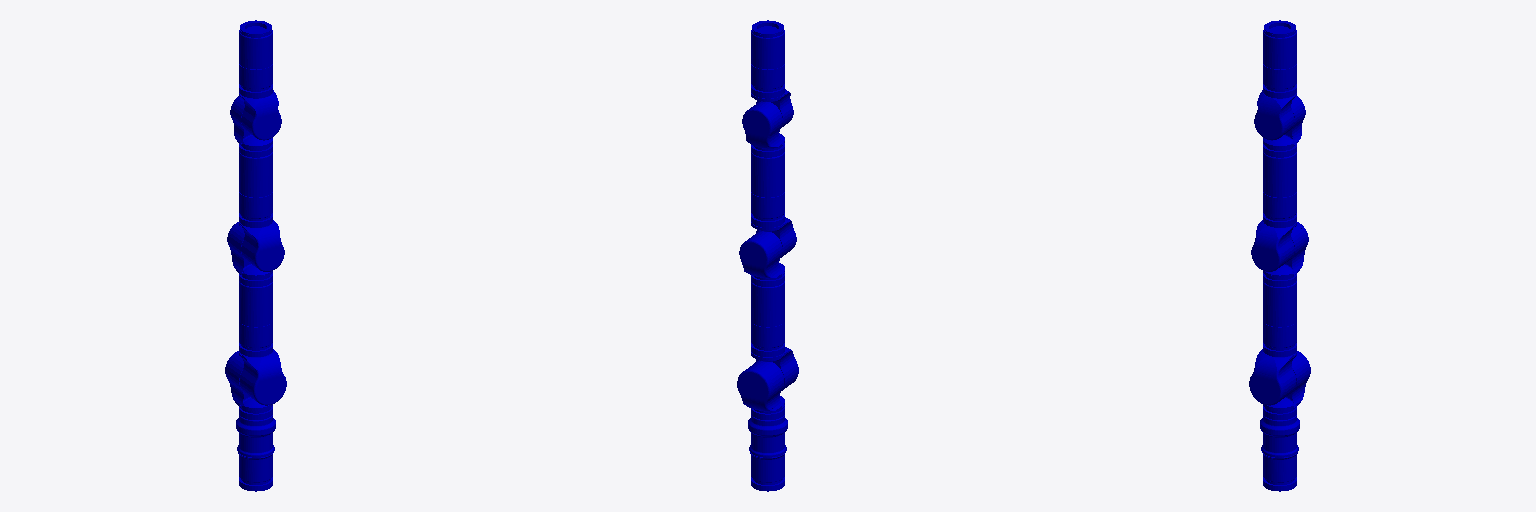
URDF robot description (tracarm):
<?xml version="1.0"?>
<robot name="tracarm">

  <material name="blue">
    <color rgba="0 0 .8 1"/>
  </material>

  <link name="world"/>
  
  <link name="deck_link"/>

  <joint name="base_joint" type="fixed">
    <origin rpy="0 0 0" xyz="0 0 0"/>
    <parent link="world"/>
    <child link="deck_link"/>
  </joint>
  
  <joint name="arm_uma_joint" type="fixed">
    <origin rpy="0 0 0" xyz="0.155 0.21 0"/>
    <parent link="deck_link"/>
    <child link="arm_uma_link"/>
  </joint>

  <link name="arm_uma_link">
    <visual>
      <origin rpy="0 0 0" xyz="0 0 0"/>
      <geometry>
        <mesh filename="package://tracarm_description/meshes/uma.stl"/>
      </geometry>
      <material name="blue"/>
    </visual>
    <collision>
      <origin rpy="0 0 0" xyz="0 0 0"/>
      <geometry>
        <mesh filename="package://tracarm_description/meshes/uma.stl"/>
      </geometry>
    </collision>
  </link>

  <joint name="arm_uma_base_joint" type="fixed">
    <origin rpy="0 0 0" xyz="0 0 0.01"/>
    <parent link="arm_uma_link"/>
    <child link="arm_base_roll_stationary_link"/>
  </joint>


  <link name="arm_base_roll_stationary_link">
    <visual>
      <origin rpy="0 0 0" xyz="0 0 0.0"/>
      <geometry>
        <mesh filename="package://tracarm_description/meshes/base_roll_stationary.stl"/>
      </geometry>
      <material name="blue"/>
    </visual>
    <collision>
      <origin rpy="0 0 0" xyz="0 0 0"/>
      <geometry>
        <mesh filename="package://tracarm_description/meshes/base_roll_stationary.stl"/>
      </geometry>
    </collision>
  </link>


  <joint name="joint0" type="revolute">
    <limit effort="244.5" lower="-2.181659722222222" upper=".7524547222222218" velocity="0.24434588888888886"/>
    <parent link="arm_base_roll_stationary_link"/>
    <child link="arm_base_roll_revolving_link"/>
    <origin rpy="0 0 0" xyz="0 0 0.1011"/>
    <axis xyz="0 0 1"/>
  </joint>
 
  <link name="arm_base_roll_revolving_link">
    <visual>
      <origin xyz="0 0 0"/>
      <geometry>
        <mesh filename="package://tracarm_description/meshes/base_roll_revolving.stl"/>
      </geometry>
      <material name="blue"/>
    </visual>
    <collision>
      <origin xyz="0 0 0"/>
      <geometry>
        <mesh filename="package://tracarm_description/meshes/base_roll_revolving.stl"/>
      </geometry>
    </collision>
  </link>

  <joint name="arm_base_to_shoulder_joint" type="fixed">
    <origin rpy="0 0 0" xyz="0 0 0.1284"/>
    <parent link="arm_base_roll_revolving_link"/>
    <child link="arm_shoulder_pitch_stationary_link"/>
  </joint>
  
  <link name="arm_shoulder_pitch_stationary_link">
    <visual>
      <origin xyz="0 0 0"/>
      <geometry>
        <mesh filename="package://tracarm_description/meshes/shoulder_pitch_stationary.stl"/>
      </geometry>
      <material name="blue"/>
    </visual>
    <collision>
      <origin xyz="0 0 0"/>
      <geometry>
        <mesh filename="package://tracarm_description/meshes/shoulder_pitch_stationary.stl"/>
      </geometry>
    </collision>
  </link>
  
  <joint name="joint1" type="revolute">
    <limit effort="244.5" lower="-1.9809470277777779" upper="1.9809470277777779" velocity="0.26179916666666664"/>
    <parent link="arm_shoulder_pitch_stationary_link"/>
    <child link="arm_shoulder_pitch_revolving_link"/>
    <origin rpy="0 0 0" xyz="0 0 0.104"/>
    <axis xyz="0 1 0"/>
  </joint>

  <link name="arm_shoulder_pitch_revolving_link">
    <visual>
      <origin xyz="0 0 0"/>
      <geometry>
        <mesh filename="package://tracarm_description/meshes/shoulder_pitch_revolving.stl"/>
      </geometry>
      <material name="blue"/>
    </visual>
    <collision>
      <origin xyz="0 0 0"/>
      <geometry>
        <mesh filename="package://tracarm_description/meshes/shoulder_pitch_revolving.stl"/>
      </geometry>
    </collision>
  </link>

  <joint name="arm_shoulder_to_shoulder_joint" type="fixed">
    <origin rpy="0 0 0" xyz="0 0 0.0975"/>
    <parent link="arm_shoulder_pitch_revolving_link"/>
    <child link="arm_shoulder_roll_stationary_link"/>
  </joint>

  <link name="arm_shoulder_roll_stationary_link">
    <visual>
      <origin xyz="0 0 0"/>
      <geometry>
        <mesh filename="package://tracarm_description/meshes/shoulder_roll_stationary.stl"/>
      </geometry>
      <material name="blue"/>
    </visual>
    <collision>
      <origin xyz="0 0 0"/>
      <geometry>
          <mesh filename="package://tracarm_description/meshes/shoulder_roll_stationary.stl"/>
      </geometry>
    </collision>
  </link>
  
  <joint name="joint2" type="revolute">
    <limit effort="123.6" lower="-2.1554798055555553" upper="3.7262748055555557" velocity="0.2792524444444444"/>
    <parent link="arm_shoulder_roll_stationary_link"/>
    <child link="arm_shoulder_roll_revolving_link"/>
    <origin rpy="0 0 0" xyz="0 0 0.087063"/>
    <axis xyz="0 0 1"/>
  </joint>
  
  <link name="arm_shoulder_roll_revolving_link">
    <visual>
      <origin xyz="0 0 0"/>
      <geometry>
        <mesh filename="package://tracarm_description/meshes/shoulder_roll_revolving.stl"/>
      </geometry>
      <material name="blue"/>
    </visual>
    <collision>
      <origin xyz="0 0 0"/>
      <geometry>
        <mesh filename="package://tracarm_description/meshes/shoulder_roll_revolving.stl"/>
      </geometry>
    </collision>
  </link>
  
  <joint name="arm_shoulder_to_elbow_joint" type="fixed">
    <origin rpy="0 0 0" xyz="0 0 0.138212"/>
    <parent link="arm_shoulder_roll_revolving_link"/>
    <child link="arm_elbow_pitch_stationary_link"/>
  </joint>
  
  <link name="arm_elbow_pitch_stationary_link">
    <visual>
      <origin rpy="0 0 0" xyz="0 0 0"/>
      <geometry>
        <mesh filename="package://tracarm_description/meshes/elbow_pitch_stationary.stl"/>
      </geometry>
      <material name="blue"/>
    </visual>
    <collision>
      <origin rpy="0 0 0" xyz="0 0 0"/>
      <geometry>
        <mesh filename="package://tracarm_description/meshes/elbow_pitch_stationary.stl"/>
      </geometry>
    </collision>
  </link>
  
  <joint name="joint3" type="revolute">
    <limit effort="123.6" lower="-1.9809470277777779" upper="1.9809470277777779" velocity="0.2792524444444444"/>
    <parent link="arm_elbow_pitch_stationary_link"/>
    <child link="arm_elbow_pitch_revolving_link"/>
    <origin rpy="0 0 0" xyz="0 0 0.098"/>
    <axis xyz="0 1 0"/>
  </joint>
  
  <link name="arm_elbow_pitch_revolving_link">
    <visual>
      <origin rpy="0 0 0" xyz="0 0 0"/>
      <geometry>
        <mesh filename="package://tracarm_description/meshes/elbow_pitch_revolving.stl"/>
      </geometry>
      <material name="blue"/>
    </visual>
    <collision>
      <origin rpy="0 0 0" xyz="0 0 0"/>
      <geometry>
        <mesh filename="package://tracarm_description/meshes/elbow_pitch_revolving.stl"/>
      </geometry>
    </collision>
  </link>
  
  <joint name="arm_elbow_to_elbow_joint" type="fixed">
    <origin rpy="0 0 0" xyz="0 0 0.0915"/>
    <parent link="arm_elbow_pitch_revolving_link"/>
    <child link="arm_elbow_roll_stationary_link"/>
  </joint>

  <link name="arm_elbow_roll_stationary_link">
    <visual>
      <origin rpy="0 0 0" xyz="0 0 0"/>
      <geometry>
        <mesh filename="package://tracarm_description/meshes/elbow_roll_stationary.stl"/>
      </geometry>
      <material name="blue"/>
    </visual>
    <collision>
      <origin rpy="0 0 0" xyz="0 0 0"/>
      <geometry>
        <mesh filename="package://tracarm_description/meshes/elbow_roll_stationary.stl"/>
      </geometry>
    </collision>
  </link>
    
  <joint name="joint4" type="revolute">
    <limit effort="123.6" lower="-2.286379388888889" upper=".5953752222222226" velocity="0.2967057222222222"/>
    <parent link="arm_elbow_roll_stationary_link"/>
    <child link="arm_elbow_roll_revolving_link"/>
    <origin rpy="0 0 0" xyz="0 0 0.087063"/>
    <axis xyz="0 0 1"/>
  </joint>

  <link name="arm_elbow_roll_revolving_link">
    <visual>
      <origin rpy="0 0 0" xyz="0 0 0"/>
      <geometry>
        <mesh filename="package://tracarm_description/meshes/elbow_roll_revolving.stl"/>
      </geometry>
      <material name="blue"/>
    </visual>
    <collision>
      <origin rpy="0 0 0" xyz="0 0 0"/>
      <geometry>
        <mesh filename="package://tracarm_description/meshes/elbow_roll_revolving.stl"/>
      </geometry>
    </collision>
  </link>
  
  <joint name="arm_elbow_to_wrist_joint" type="fixed">
    <origin rpy="0 0 0" xyz="0 0 0.138212"/>
    <parent link="arm_elbow_roll_revolving_link"/>
    <child link="arm_wrist_pitch_stationary_link"/>
  </joint>

  <link name="arm_wrist_pitch_stationary_link">
    <visual>
      <origin xyz="0 0 0"/>
      <geometry>
        <mesh filename="package://tracarm_description/meshes/wrist_pitch_stationary.stl"/>
      </geometry>
      <material name="blue"/>
    </visual>
    <collision>
      <origin xyz="0 0 0"/>
      <geometry>
        <mesh filename="package://tracarm_description/meshes/wrist_pitch_stationary.stl"/>
      </geometry>
    </collision>
  </link>
  
  <joint name="joint5" type="revolute">
    <limit effort="48.4" lower="-1.9198605555555557" upper=".9198605555555557" velocity="0.6981311111111111"/>
    <parent link="arm_wrist_pitch_stationary_link"/>
    <child link="arm_wrist_pitch_revolving_link"/>
    <origin rpy="0 0 0" xyz="0 0 0.098"/>
    <axis xyz="0 1 0"/>
  </joint>

  <link name="arm_wrist_pitch_revolving_link">
    <visual>
      <origin xyz="0 0 0"/>
      <geometry>
        <mesh filename="package://tracarm_description/meshes/wrist_pitch_revolving.stl"/>
      </geometry>
      <material name="blue"/>
    </visual>
    <collision>
      <origin xyz="0 0 0"/>
      <geometry>
        <mesh filename="package://tracarm_description/meshes/wrist_pitch_revolving.stl"/>
      </geometry>
    </collision>
  </link>
  
  <joint name="arm_wrist_to_wrist_joint" type="fixed">
    <origin rpy="0 0 0" xyz="0 0 0.0915"/>
    <parent link="arm_wrist_pitch_revolving_link"/>
    <child link="arm_wrist_roll_stationary_link"/>
  </joint>

  <link name="arm_wrist_roll_stationary_link">
    <visual>
      <origin xyz="0 0 0"/>
      <geometry>
        <mesh filename="package://tracarm_description/meshes/wrist_roll_stationary.stl"/>
      </geometry>
      <material name="blue"/>
    </visual>
    <collision>
      <origin xyz="0 0 0"/>
      <geometry>
        <mesh filename="package://tracarm_description/meshes/wrist_roll_stationary.stl"/>
      </geometry>
    </collision>
  </link>
  
  <joint name="joint6" type="revolute">
    <limit effort="48.4" lower="-2.452185527777778" upper=".4993821944444443" velocity="0.6981311111111111"/>
    <parent link="arm_wrist_roll_stationary_link"/>
    <child link="arm_wrist_roll_revolving_link"/>
    <origin rpy="0 0 0" xyz="0 0 0.082992"/>
    <axis xyz="0 0 1"/>
  </joint>
  
  <link name="arm_wrist_roll_revolving_link">
    <visual>
      <origin xyz="0 0 0"/>
      <geometry>
        <mesh filename="package://tracarm_description/meshes/wrist_roll_revolving.stl"/>
      </geometry>
      <material name="blue"/>
    </visual>
    <collision>
      <origin xyz="0 0 0"/>
      <geometry>
        <mesh filename="package://tracarm_description/meshes/wrist_roll_revolving.stl"/>
      </geometry>
    </collision>
  </link>

</robot>

--- Facts derived from the render (not from the file) ---
Views: 3 orthographic renders of the robot side by side, from view 1: azimuth 30°, elevation 25°; view 2: azimuth 150°, elevation 25°; view 3: azimuth 330°, elevation 25°.
Model tracarm with 17 links and 16 joints (7 revolute, 9 fixed), rooted at world, posed every joint at zero.
Links seen in each view (by area): view 1: arm_shoulder_pitch_revolving_link, arm_elbow_pitch_revolving_link, arm_wrist_roll_revolving_link, arm_wrist_pitch_revolving_link, arm_base_roll_revolving_link, arm_shoulder_roll_revolving_link, arm_elbow_roll_revolving_link, arm_shoulder_pitch_stationary_link, arm_elbow_pitch_stationary_link, arm_base_roll_stationary_link, arm_wrist_pitch_stationary_link, arm_elbow_roll_stationary_link (+2 smaller); view 2: arm_shoulder_pitch_stationary_link, arm_elbow_pitch_stationary_link, arm_wrist_pitch_stationary_link, arm_wrist_roll_revolving_link, arm_base_roll_revolving_link, arm_shoulder_roll_revolving_link, arm_elbow_roll_revolving_link, arm_base_roll_stationary_link, arm_elbow_roll_stationary_link, arm_shoulder_roll_stationary_link, arm_wrist_roll_stationary_link, arm_shoulder_pitch_revolving_link (+1 smaller); view 3: arm_shoulder_pitch_revolving_link, arm_elbow_pitch_revolving_link, arm_wrist_roll_revolving_link, arm_wrist_pitch_revolving_link, arm_base_roll_revolving_link, arm_shoulder_roll_revolving_link, arm_elbow_roll_revolving_link, arm_shoulder_pitch_stationary_link, arm_elbow_pitch_stationary_link, arm_base_roll_stationary_link, arm_wrist_pitch_stationary_link, arm_elbow_roll_stationary_link (+2 smaller).
Boxes of the visible links, x1,y1,x2,y2 form: arm_shoulder_pitch_revolving_link: [239, 349, 286, 405]; arm_elbow_pitch_revolving_link: [239, 220, 284, 271]; arm_wrist_roll_revolving_link: [239, 20, 272, 69]; arm_wrist_pitch_revolving_link: [239, 90, 281, 140]; arm_base_roll_revolving_link: [236, 415, 275, 457]; arm_shoulder_roll_revolving_link: [239, 281, 272, 326]; arm_elbow_roll_revolving_link: [239, 152, 272, 197]; arm_shoulder_pitch_stationary_link: [225, 351, 272, 419]; arm_elbow_pitch_stationary_link: [227, 222, 272, 286]; arm_base_roll_stationary_link: [237, 450, 274, 491]; arm_wrist_pitch_stationary_link: [230, 96, 272, 156]; arm_elbow_roll_stationary_link: [239, 192, 272, 227]; arm_shoulder_pitch_stationary_link: [737, 361, 784, 419]; arm_elbow_pitch_stationary_link: [739, 231, 784, 286]; arm_wrist_pitch_stationary_link: [742, 102, 784, 156]; arm_wrist_roll_revolving_link: [751, 20, 784, 69]; arm_base_roll_revolving_link: [748, 415, 787, 457]; arm_shoulder_roll_revolving_link: [751, 281, 784, 326]; arm_elbow_roll_revolving_link: [751, 152, 784, 197]; arm_base_roll_stationary_link: [749, 450, 786, 491]; arm_elbow_roll_stationary_link: [751, 192, 784, 227]; arm_shoulder_roll_stationary_link: [751, 322, 784, 356]; arm_wrist_roll_stationary_link: [751, 64, 784, 97]; arm_shoulder_pitch_revolving_link: [751, 347, 798, 390]; arm_shoulder_pitch_revolving_link: [1249, 349, 1296, 405]; arm_elbow_pitch_revolving_link: [1251, 220, 1296, 271]; arm_wrist_roll_revolving_link: [1263, 20, 1296, 69]; arm_wrist_pitch_revolving_link: [1254, 90, 1296, 140]; arm_base_roll_revolving_link: [1260, 415, 1299, 457]; arm_shoulder_roll_revolving_link: [1263, 281, 1296, 326]; arm_elbow_roll_revolving_link: [1263, 152, 1296, 197]; arm_shoulder_pitch_stationary_link: [1263, 351, 1310, 419]; arm_elbow_pitch_stationary_link: [1263, 222, 1308, 286]; arm_base_roll_stationary_link: [1261, 450, 1298, 491]; arm_wrist_pitch_stationary_link: [1263, 96, 1305, 156]; arm_elbow_roll_stationary_link: [1263, 192, 1296, 227].
Bounding box of the posed robot: 0.1164 × 0.1734 × 1.47 m (x, y, z).
15 mesh visuals loaded from 15 distinct referenced files (15 binary STL).
